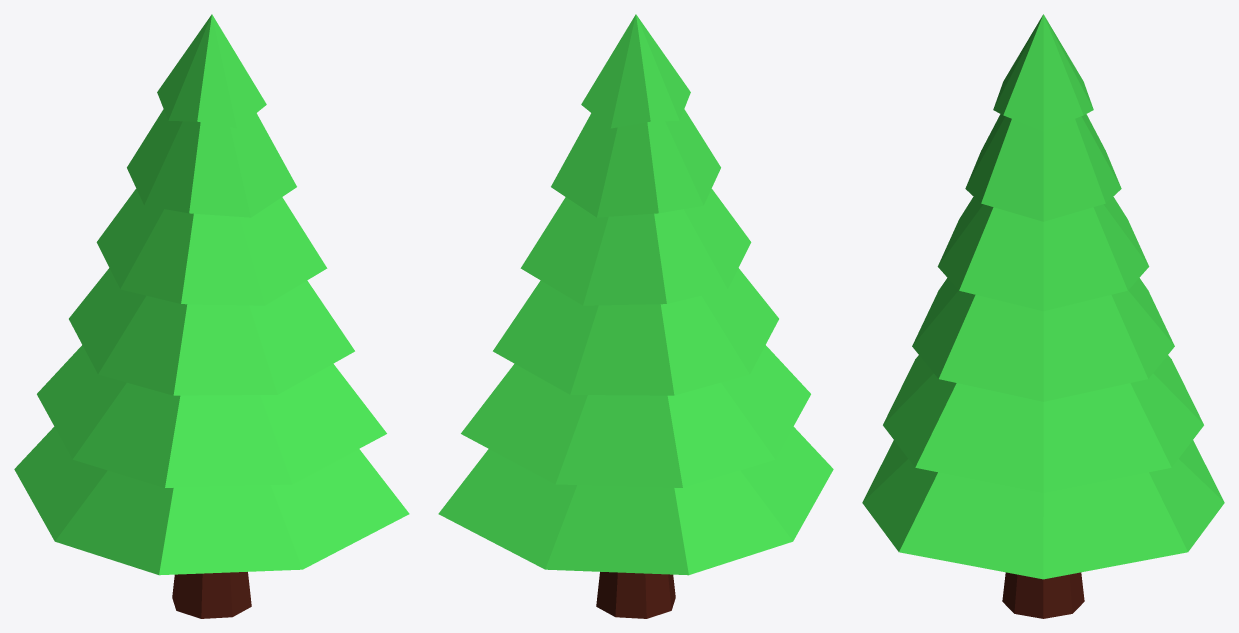
The model's file is Pino.fbx.
The picture shows the model from 3 angles, left to right: view 1: azimuth 30°, elevation 25°; view 2: azimuth 150°, elevation 25°; view 3: azimuth 270°, elevation 25°; orthographic projection.
Parts seen in each view (by area): view 1: Pino; view 2: Pino; view 3: Pino.
Boxes of the visible parts, x1,y1,x2,y2 form: Pino: (14, 14, 409, 618); Pino: (438, 14, 833, 618); Pino: (862, 14, 1224, 618).
Size of the model in its own units: 296 by 529 by 296.
